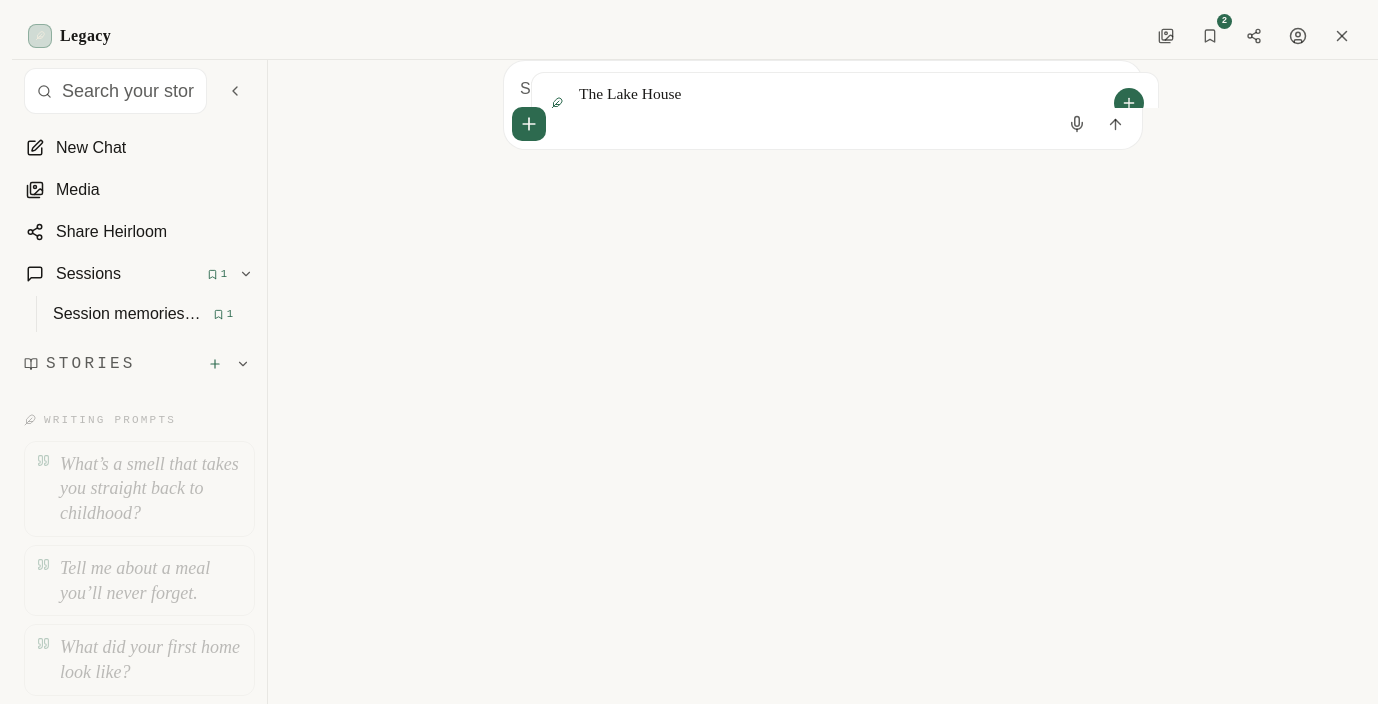
Test case: Session memories panel — desktop › does not leak the previous session's rows across a New Chat while the panel stays open
The width and height of the screenshot is (1378, 704).
(page scrolled)
Click the button named "Memories from this chat": click(1210, 36) [1190,16,1230,56]
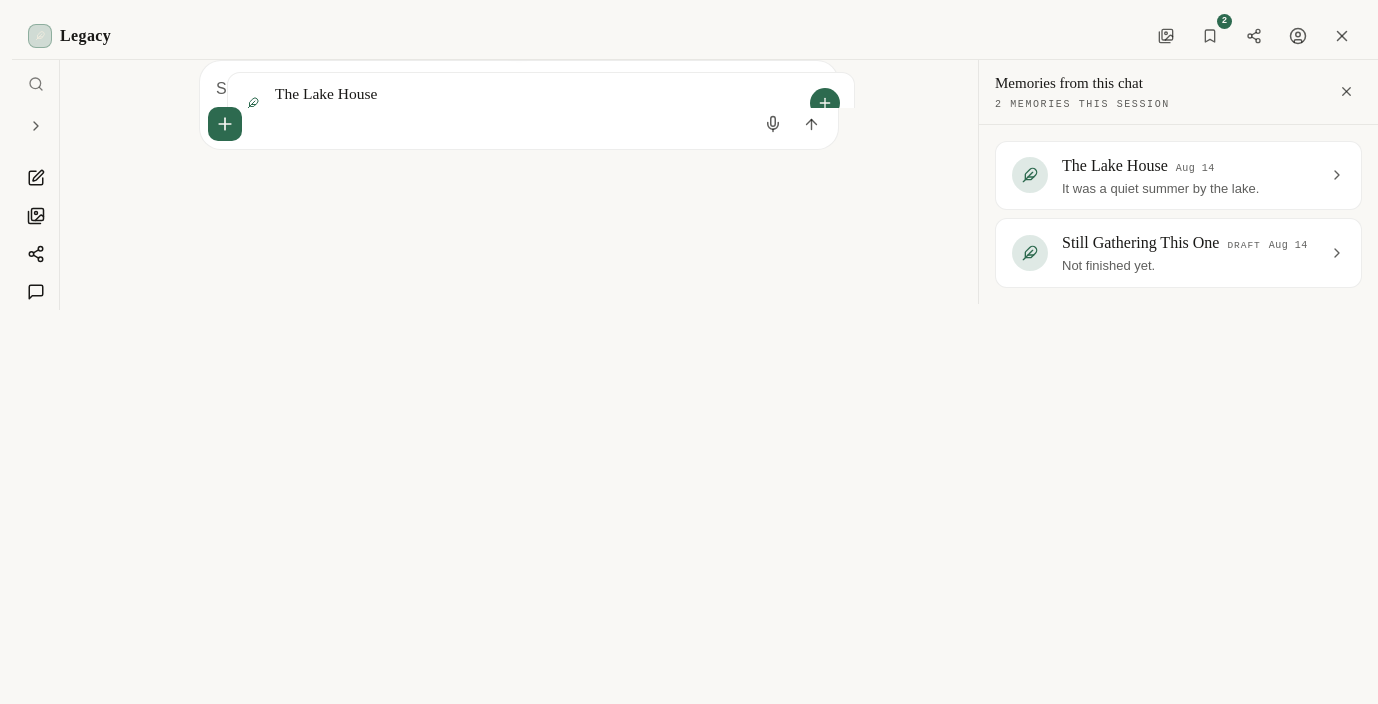
Result: the heading "Memories from this chat" is shown at [995,75,1143,91]
Result: the text "The Lake House" below "this session" is shown at [1062,156,1168,174]
Click the button named "New Chat": click(36, 178) [18,160,54,196]
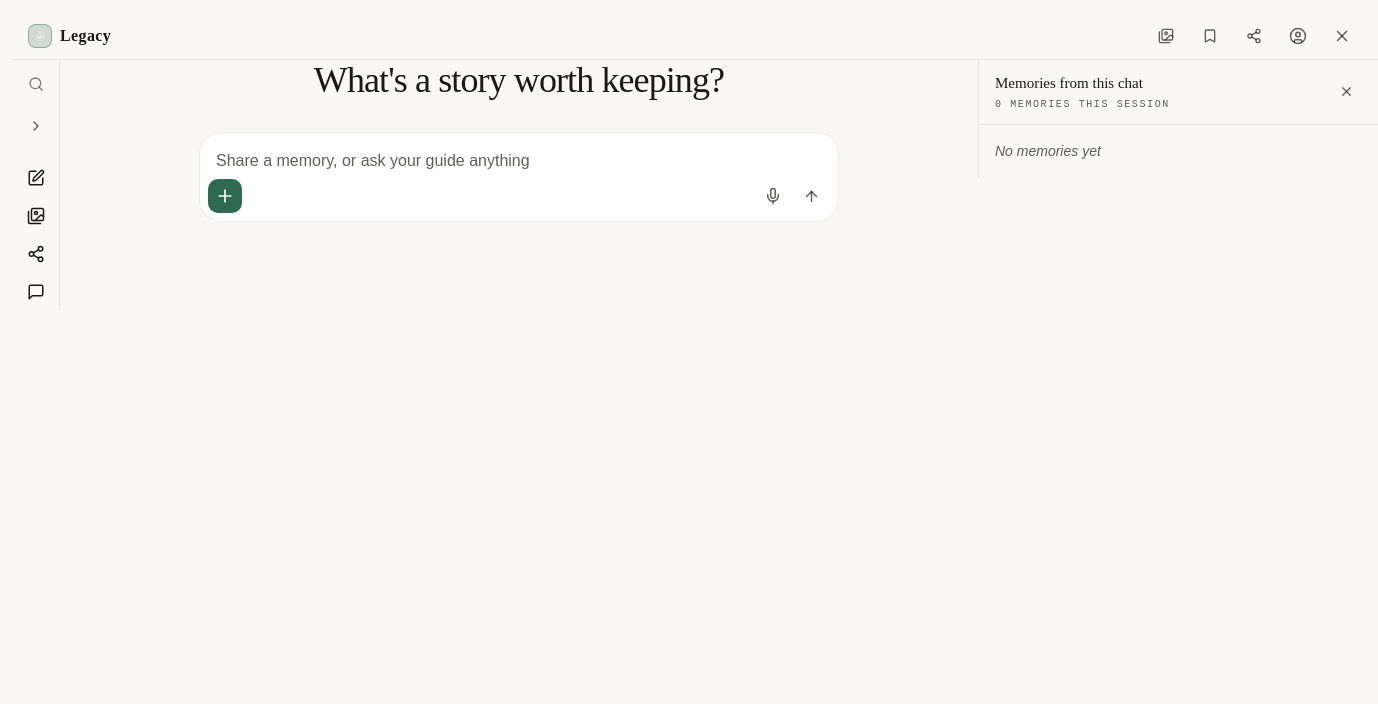
Result: the button "The Lake House" is gone
Result: the text "No memories yet" is shown at [995,142,1101,158]
